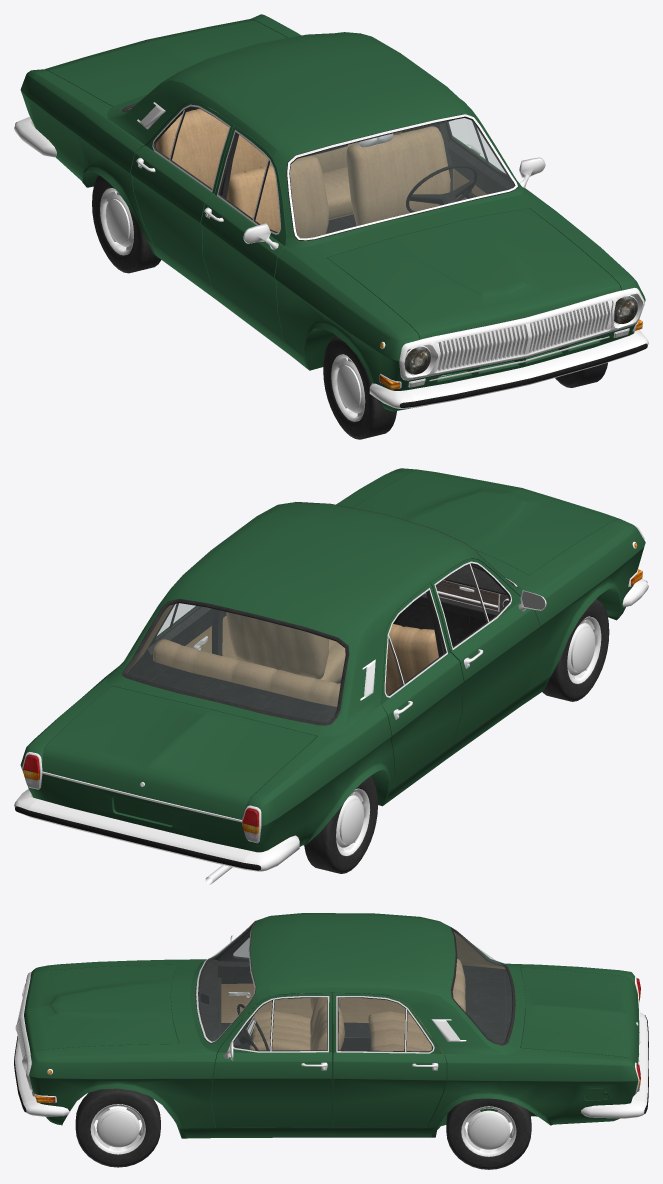
Rendered from car_volga.glb.
3 renders of one model, top to bottom at view 1: azimuth 30°, elevation 25°; view 2: azimuth 150°, elevation 25°; view 3: azimuth 270°, elevation 25°, orthographic. The views are drawn at different scales.
Visible parts, largest first — view 1: Object_28, Object_4, Object_42, Object_90, Object_20, Object_66, Object_86; view 2: Object_28, Object_90, Object_42, Object_20, Object_4, Object_66, Object_84; view 3: Object_28, Object_90, Object_20, Object_4, Object_42, Object_66.
Boxes of the visible parts, x1,y1,x2,y2 form: Object_28: [20, 14, 645, 411]; Object_4: [14, 102, 648, 421]; Object_42: [128, 107, 486, 238]; Object_90: [126, 96, 514, 237]; Object_20: [92, 101, 607, 439]; Object_66: [15, 107, 647, 407]; Object_86: [404, 296, 637, 374]; Object_28: [20, 468, 645, 852]; Object_90: [126, 582, 510, 722]; Object_42: [127, 604, 438, 706]; Object_20: [122, 502, 609, 873]; Object_4: [14, 526, 648, 871]; Object_66: [15, 581, 647, 870]; Object_84: [435, 580, 508, 610]; Object_28: [24, 913, 639, 1138]; Object_90: [199, 925, 511, 1050]; Object_20: [75, 921, 531, 1169]; Object_4: [14, 921, 648, 1156]; Object_42: [221, 932, 504, 1054]; Object_66: [14, 929, 648, 1113].
Size of the model in its own units: 2.08 by 1.49 by 4.73.
24 materials, 14 textured.
